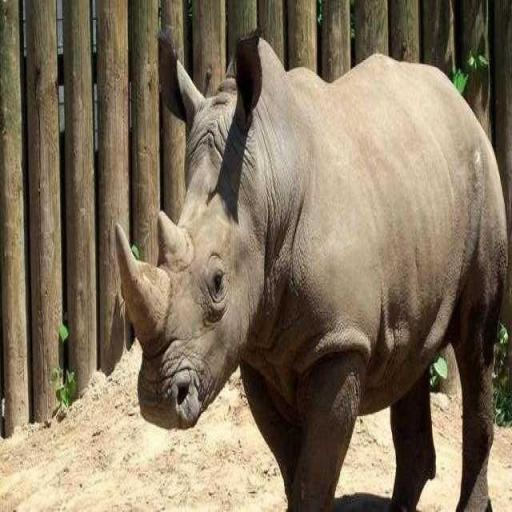Rhino: (114, 24, 508, 511)
